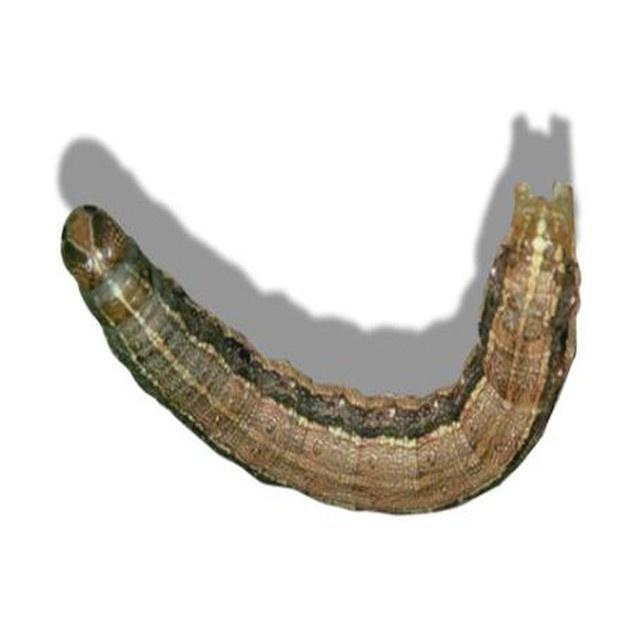Plaga: (59, 180, 576, 518)
